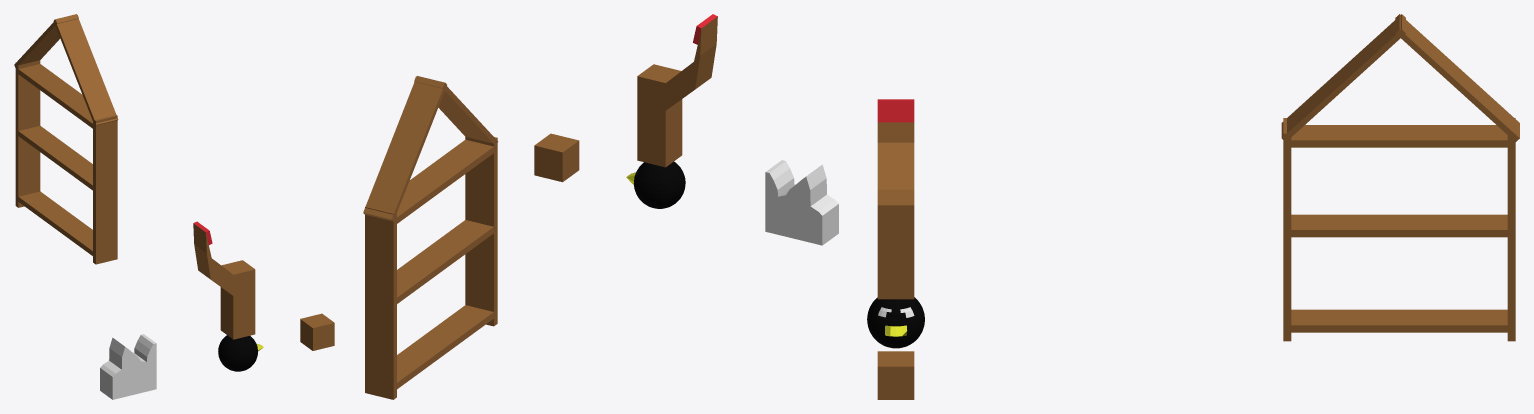
Rendered from negrobien.glb.
3 renders of one model, left to right at view 1: azimuth 30°, elevation 25°; view 2: azimuth 150°, elevation 25°; view 3: azimuth 270°, elevation 25°, orthographic. The views are drawn at different scales.
Parts seen in each view (by area): view 1: Cube, Cubo.003, Cubo.008, Cubo.004, Cubo.006, Cubo.001, Cubo, Cubo.002, Esfera.002, Cubo.007, Cubo.005; view 2: Cube, Cubo.004, Cubo.008, Cubo.005, Cubo.003, Cubo.001, Cubo, Cubo.002, Esfera.002, Cubo.007, Cubo.006; view 3: Cube, Cubo.001, Cubo, Cubo.002, Cubo.005, Cubo.006, Esfera.002, Cubo.003, Cubo.004, Cubo.007.
Boxes of the visible parts, x1,y1,x2,y2 form: Cube: (193, 221, 255, 339); Cubo.003: (93, 115, 117, 264); Cubo.008: (100, 334, 156, 399); Cubo.004: (15, 60, 40, 207); Cubo.006: (53, 14, 118, 125); Cubo.001: (16, 126, 95, 191); Cubo: (17, 191, 95, 258); Cubo.002: (16, 64, 95, 130); Esfera.002: (218, 335, 263, 371); Cubo.007: (300, 313, 334, 350); Cubo.005: (14, 14, 78, 67); Cube: (637, 14, 717, 167); Cubo.004: (365, 206, 396, 399); Cubo.008: (765, 160, 838, 245); Cubo.005: (363, 76, 446, 221); Cubo.003: (465, 137, 497, 326); Cubo.001: (395, 220, 497, 305); Cubo: (395, 305, 497, 390); Cubo.002: (395, 139, 497, 225); Esfera.002: (626, 161, 685, 208); Cubo.007: (534, 133, 579, 182); Cubo.006: (414, 76, 498, 146); Cube: (877, 99, 914, 299); Cubo.001: (1283, 214, 1512, 237); Cubo: (1283, 309, 1512, 332); Cubo.002: (1283, 125, 1512, 147); Cubo.005: (1395, 14, 1519, 141); Cubo.006: (1281, 14, 1405, 140); Esfera.002: (867, 297, 924, 348); Cubo.003: (1283, 118, 1291, 341); Cubo.004: (1507, 118, 1515, 341); Cubo.007: (877, 351, 914, 399).
Size of the model in its own units: 20.23 by 19.56 by 35.54.
